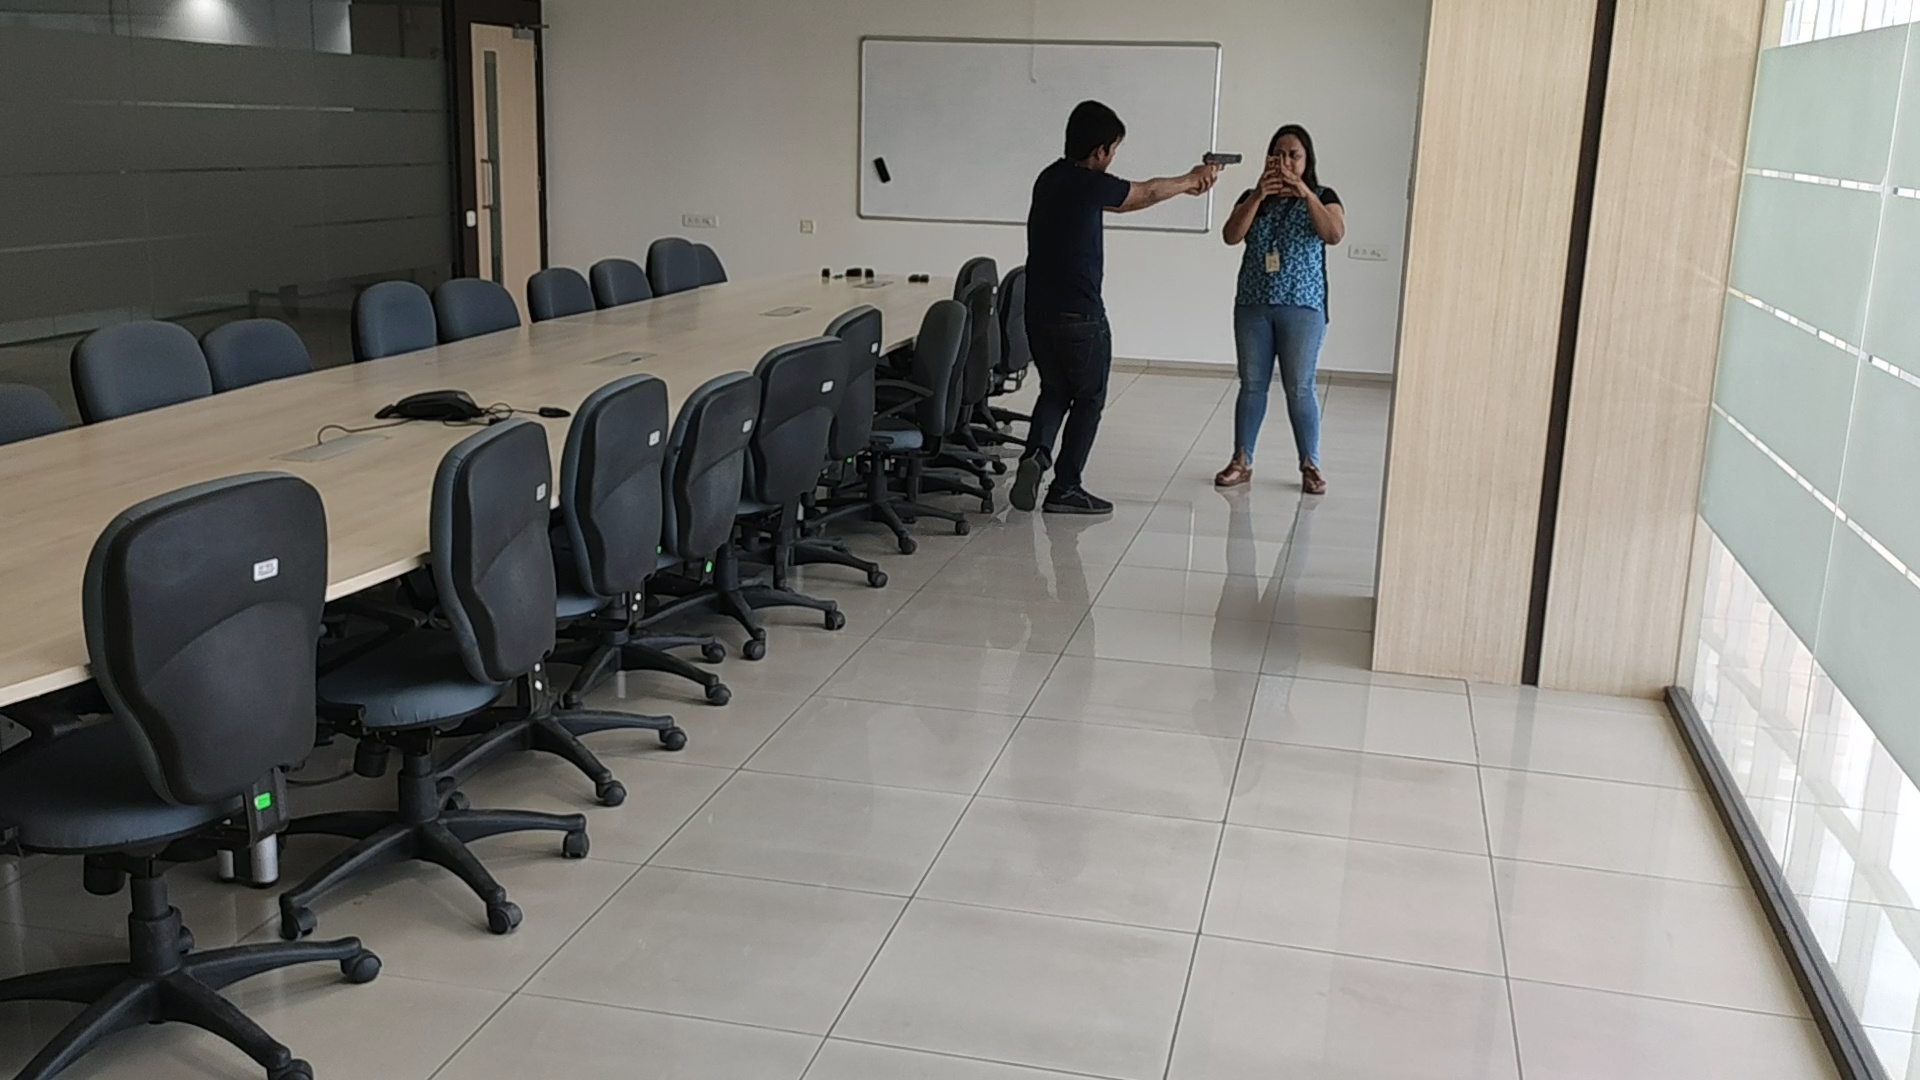gun: (1199, 148, 1245, 171)
